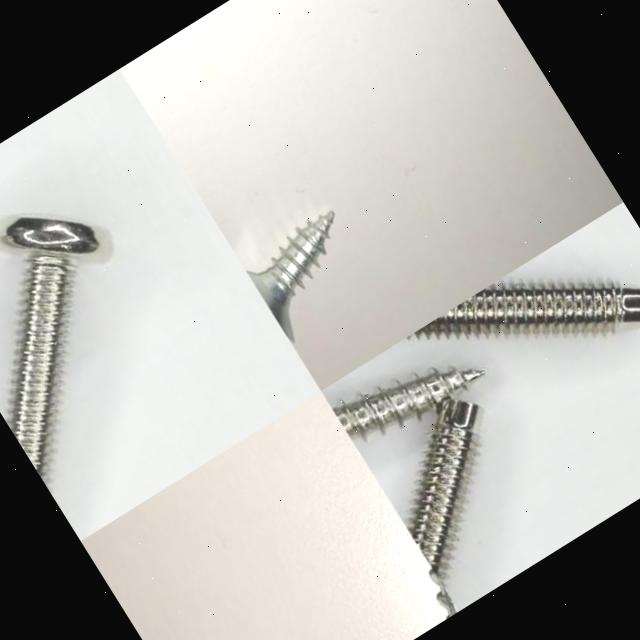Screw: (4, 216, 98, 480), (407, 397, 479, 584), (408, 284, 640, 336), (246, 211, 334, 342), (331, 369, 484, 439)
